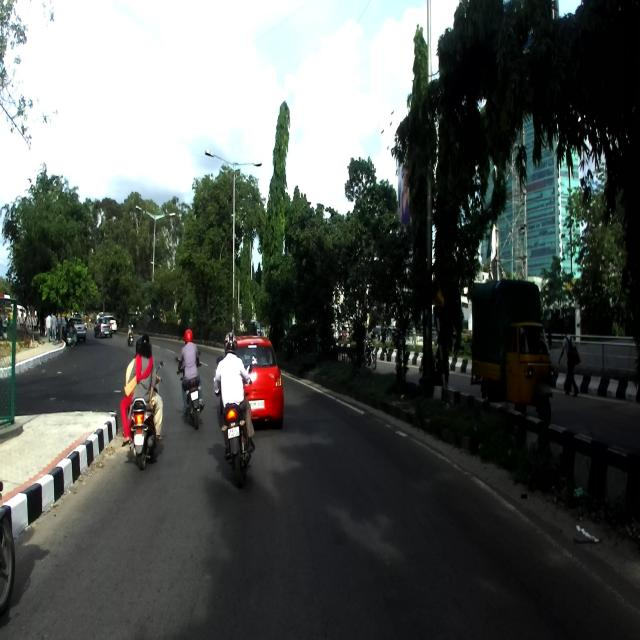Car_Maruti-Suzuki: (225, 334, 284, 430)
autorickshaw: (469, 277, 555, 424)
motorcycle_Hero: (212, 362, 255, 488)
motorcycle_bajaj: (174, 348, 205, 431)
scooter: (121, 359, 166, 471)
